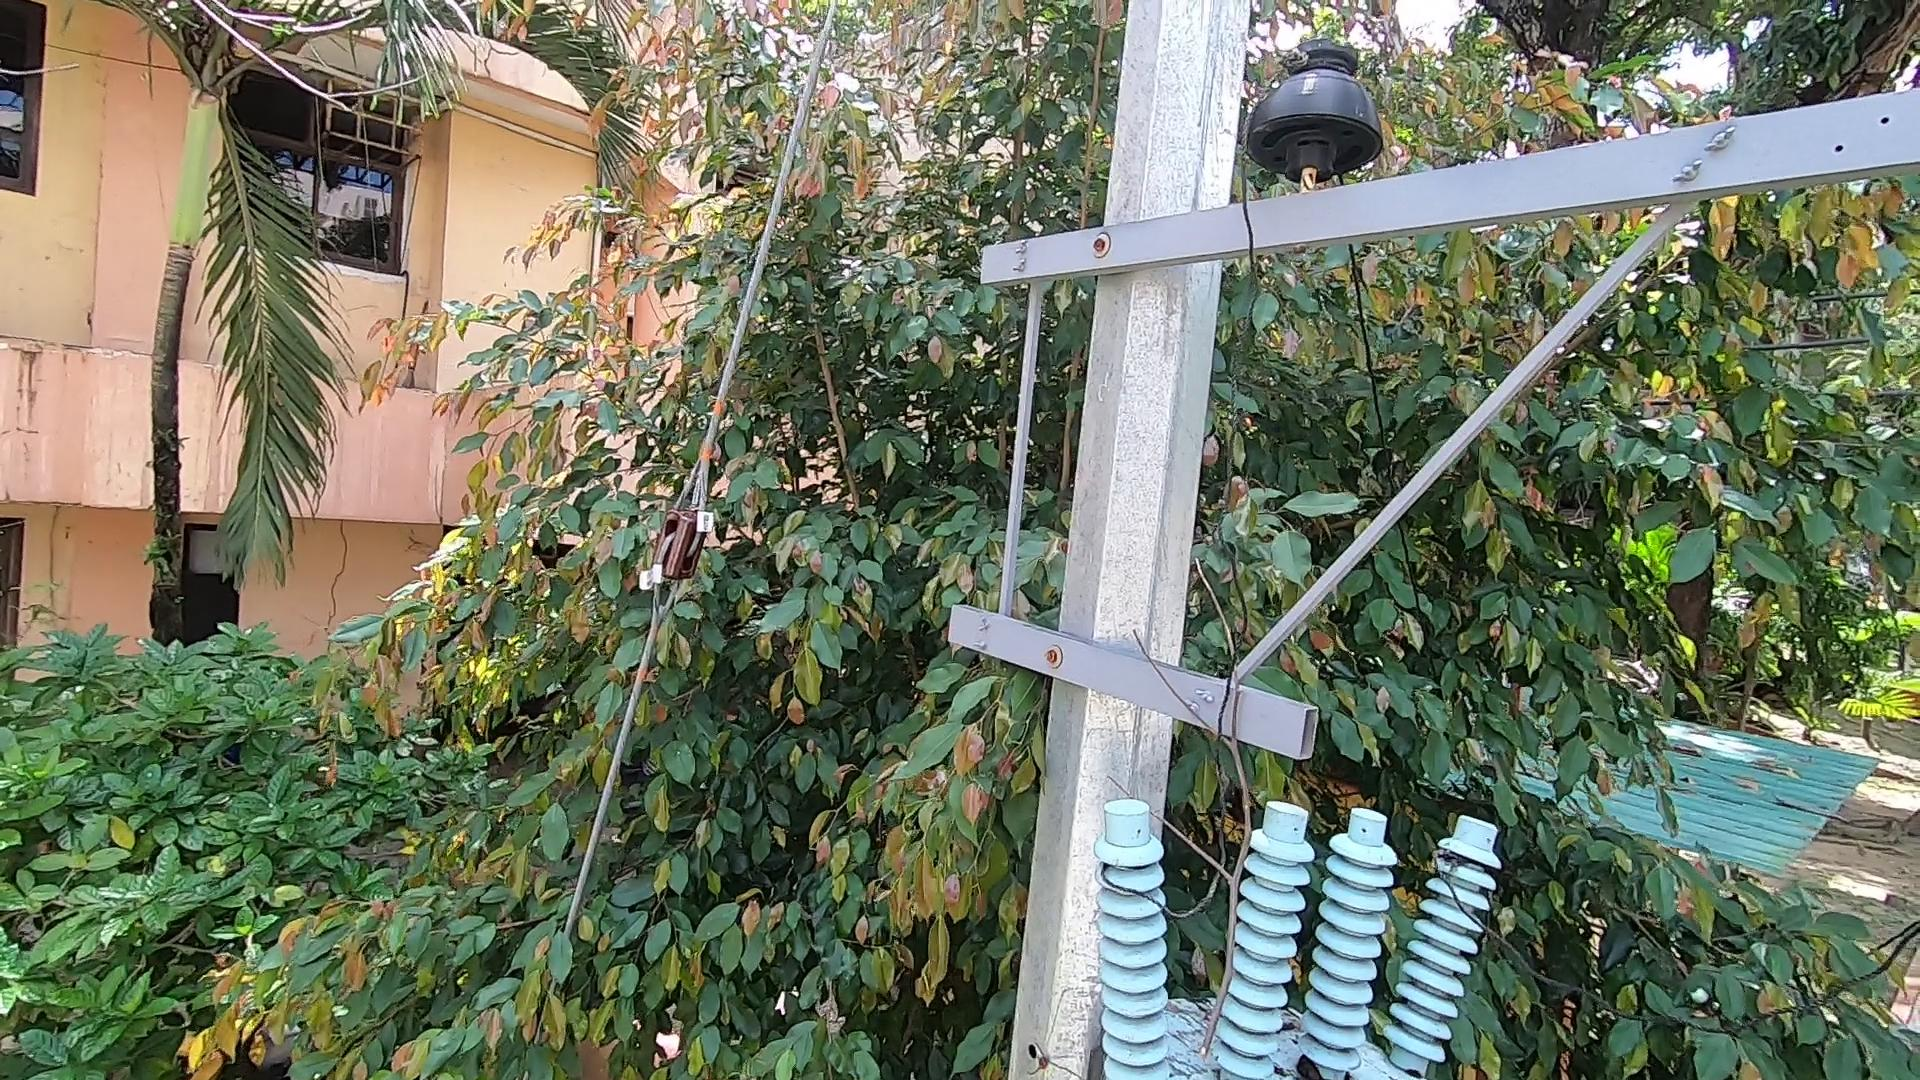leaf: (1288, 1046, 1327, 1080)
tree branch: (1091, 518, 1288, 1064)
